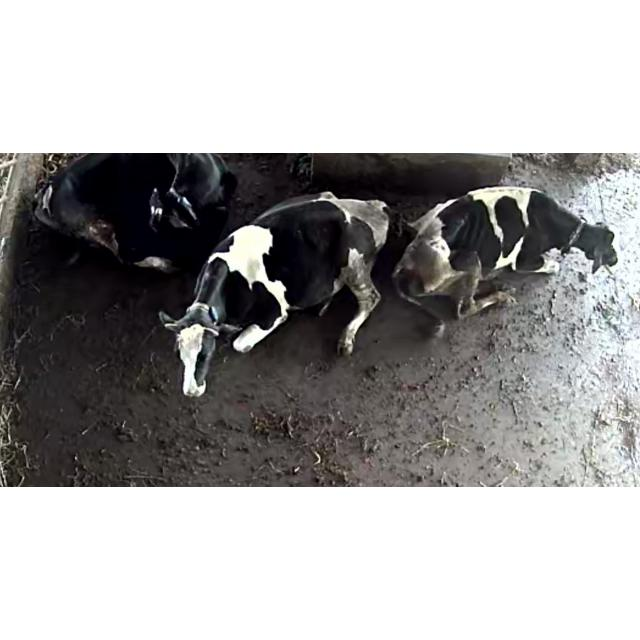lay: (157, 188, 401, 408), (400, 180, 624, 324), (32, 152, 236, 268)
